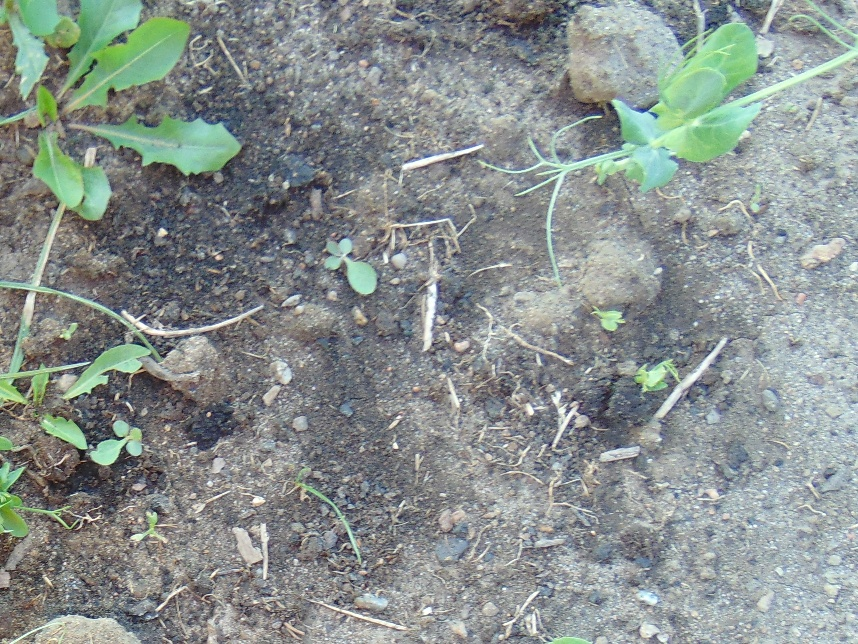crop: (523, 10, 858, 211), (1, 488, 80, 537), (635, 353, 678, 390), (592, 303, 627, 332)
weed: (1, 1, 237, 219), (1, 338, 152, 467), (322, 235, 379, 300)
